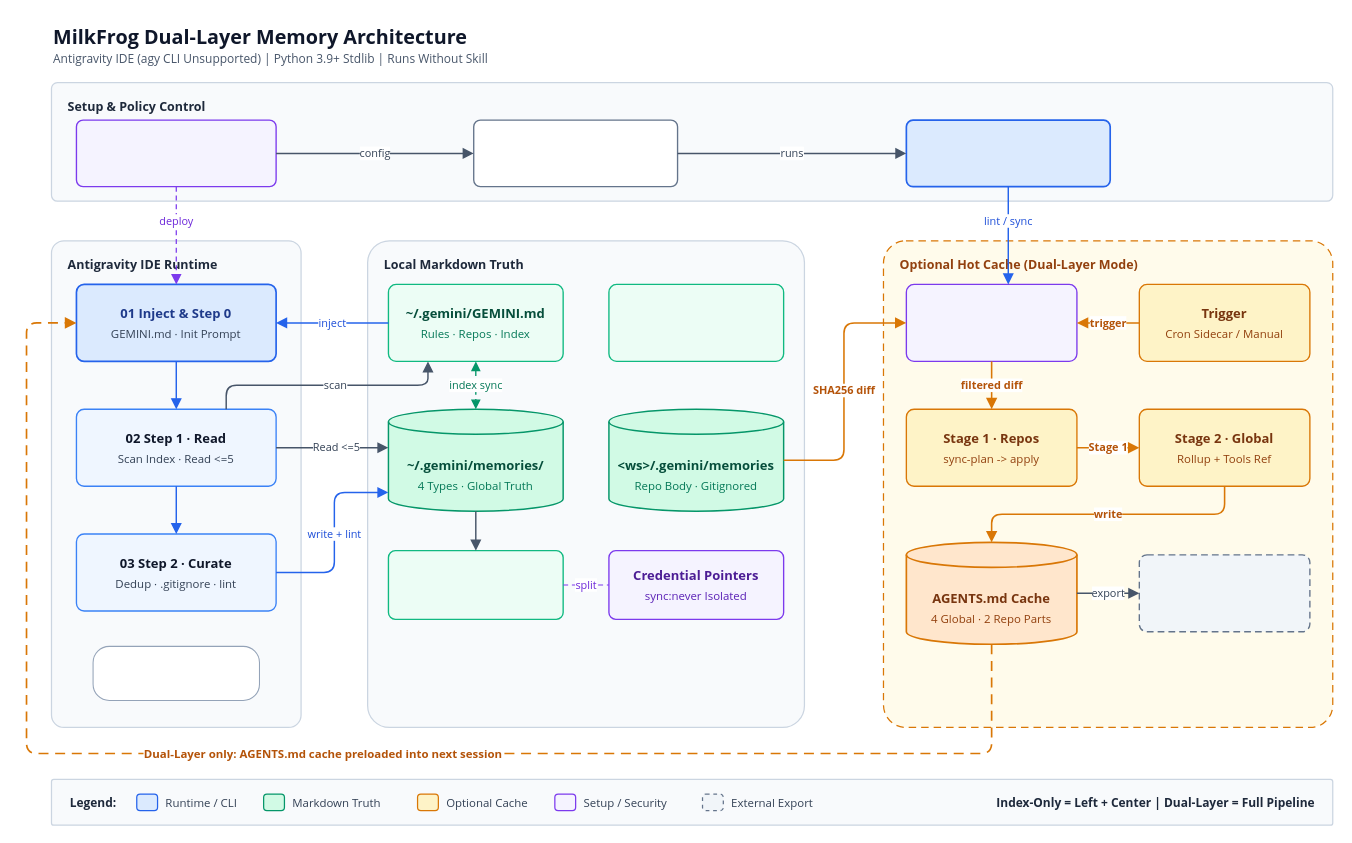
The diagram is 1352 pixels wide and 843 high, and some of its shapes have lost their labels. The shapes that lost their labels are listed below. From the top down, each one's centre as x and y in pixels, then its label:
At [175,153]: "SKILL.md Setup · 3-Way Migration".
At [575,153]: "config.json Mode · 24KB / Extended".
At [1008,153]: "memsync.py CLI doctor · init · lint · apply".
At [696,322]: "<ws>/GEMINI.md Header · Repo Index".
At [991,322]: "Diff & Security SHA256 · Redact · SECRET_RE".
At [475,585]: "local-installed-tools sync:auto Registry".
At [1224,593]: "~/.codex · ~/.claude copy-global Export".
At [175,672]: "No Skill Runtime Virtual Dir Filter".
